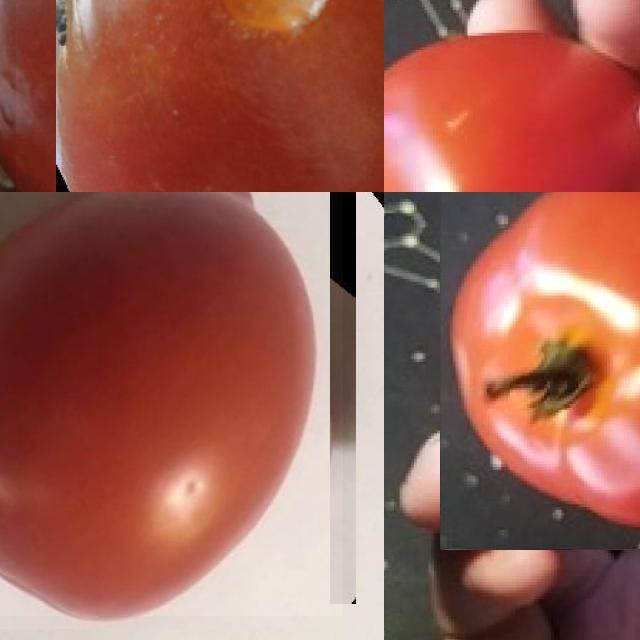Fresh Tomato: (0, 192, 343, 616), (441, 192, 640, 549), (384, 0, 640, 192)
Rotten Tomato: (16, 0, 384, 192)
